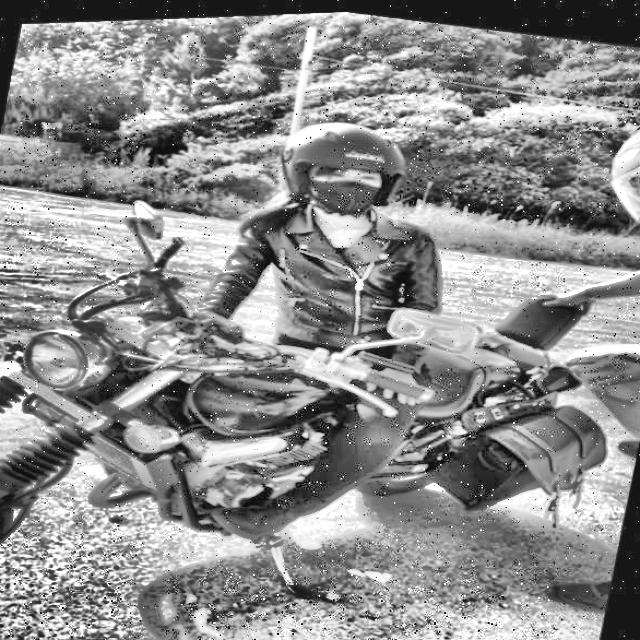Helmet: (262, 104, 423, 230)
